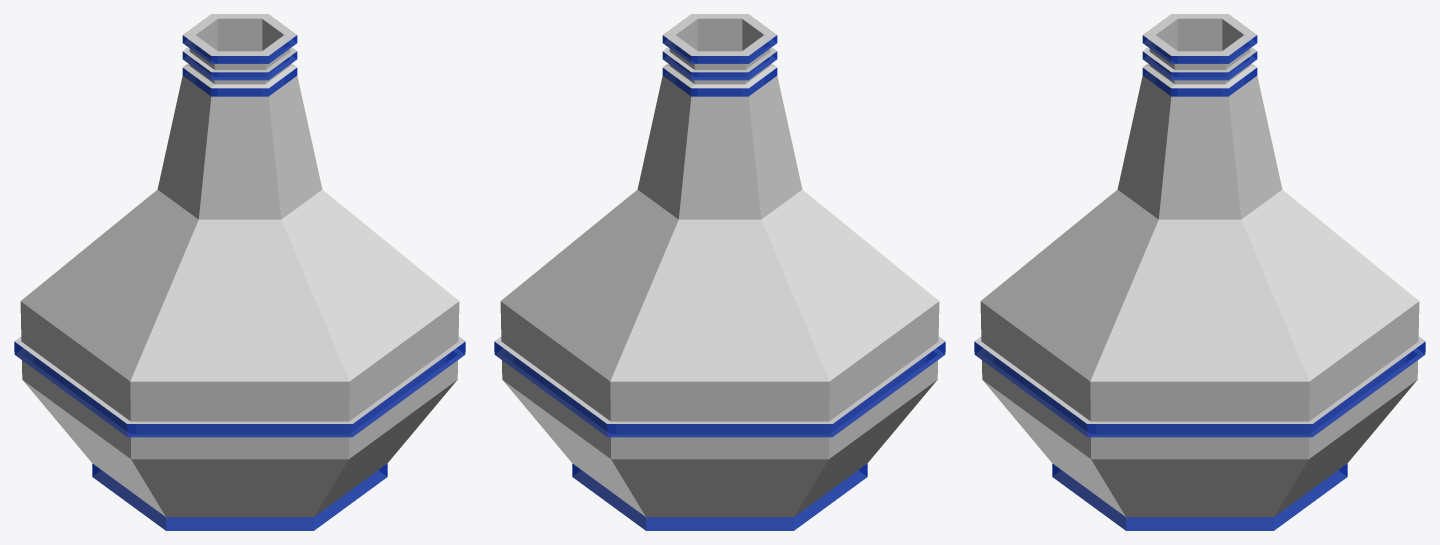
Rendered from 30per.fbx.
The picture shows the model from 3 angles, left to right: view 1: azimuth 30°, elevation 25°; view 2: azimuth 150°, elevation 25°; view 3: azimuth 270°, elevation 25°; orthographic projection.
Parts seen in each view (by area): view 1: Blue Potion; view 2: Blue Potion; view 3: Blue Potion.
Boxes of the visible parts, x1=… form: Blue Potion: x1=14, y1=14, x2=465, y2=530; Blue Potion: x1=494, y1=14, x2=945, y2=530; Blue Potion: x1=974, y1=14, x2=1425, y2=530.
Size of the model in its own units: 9.44 by 11.78 by 10.9.
